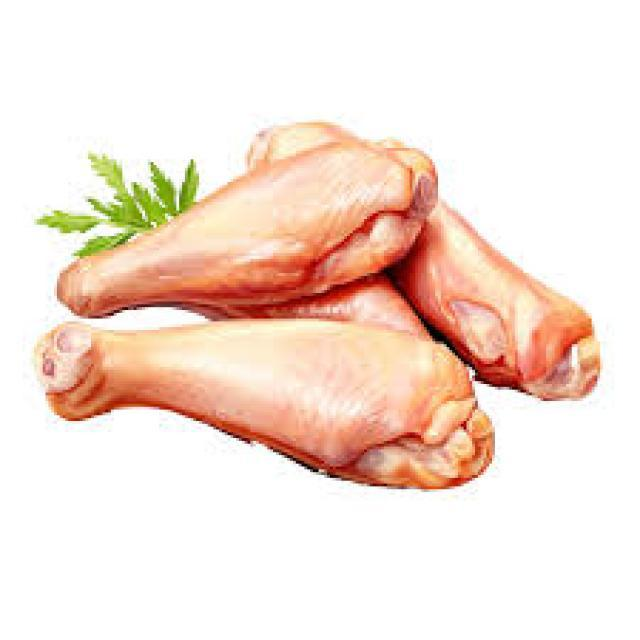leg: (264, 116, 598, 400), (32, 315, 480, 501), (47, 135, 450, 305)
